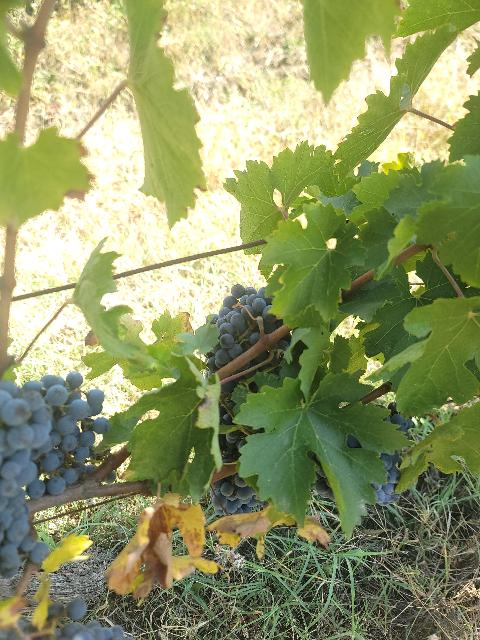grapes: (0, 380, 52, 578), (32, 371, 109, 495), (206, 284, 282, 371)
